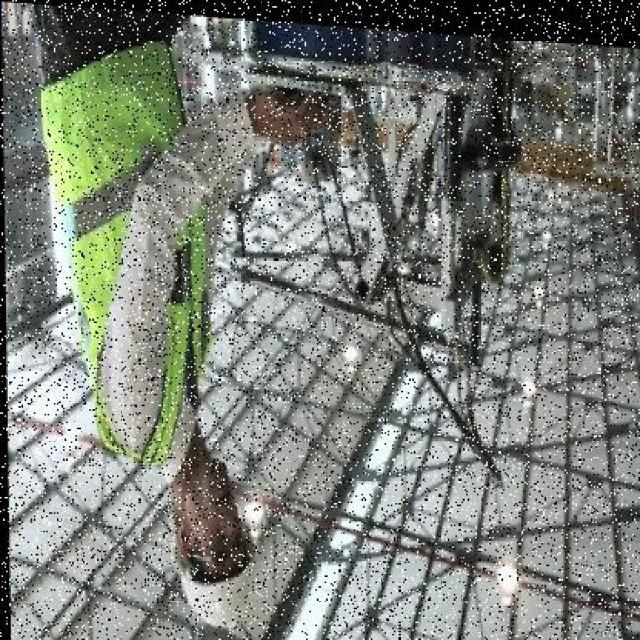helmet: (163, 517, 261, 631)
vest: (51, 63, 231, 458)
